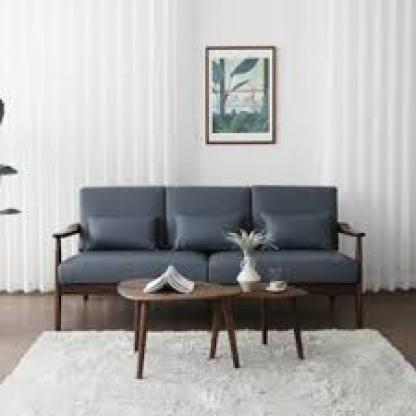sofa: (44, 183, 362, 327)
